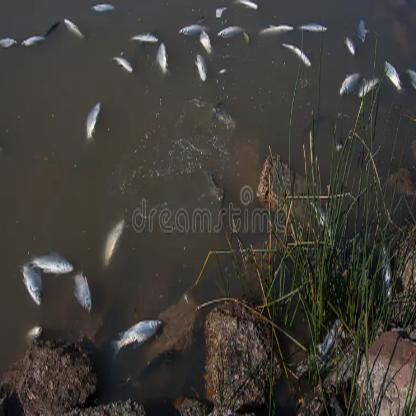deceased fish: (95, 214, 133, 282), (108, 320, 165, 358), (12, 263, 44, 310), (67, 270, 94, 312), (29, 252, 73, 275), (83, 98, 101, 145), (383, 55, 403, 90), (338, 70, 360, 99), (177, 23, 210, 38), (256, 23, 295, 35), (155, 44, 170, 75), (217, 25, 249, 39), (111, 55, 133, 74), (128, 32, 161, 44), (193, 54, 207, 82)
